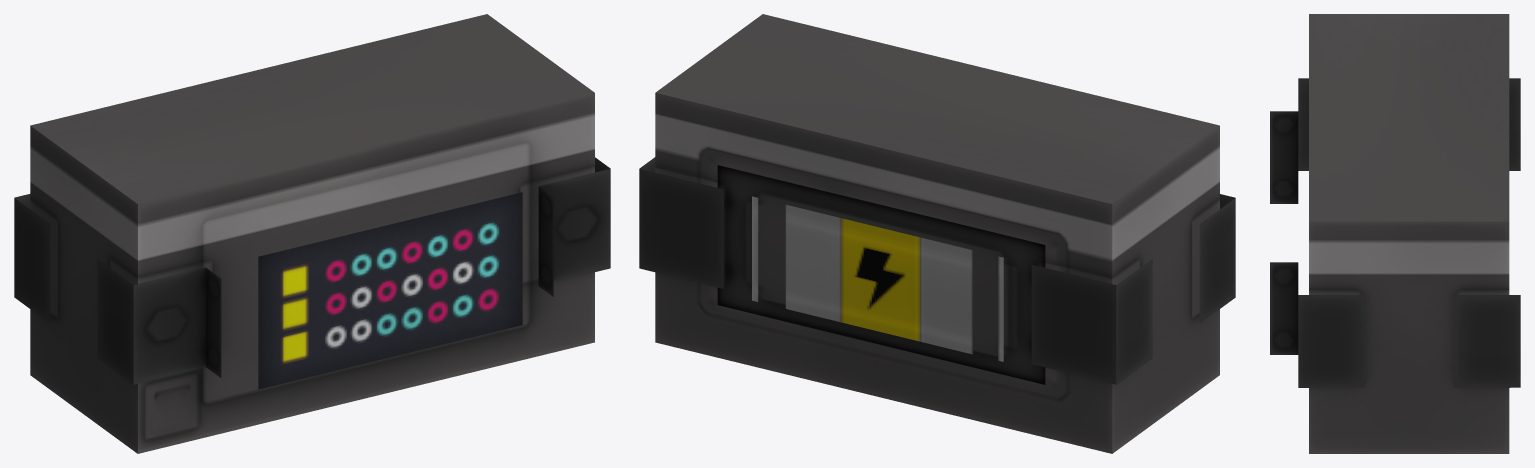
The model's file is obj_interactive_controller_01_lod1.fbx.
The picture shows the model from 3 angles, left to right: view 1: azimuth 30°, elevation 25°; view 2: azimuth 150°, elevation 25°; view 3: azimuth 270°, elevation 25°; orthographic projection. The views are drawn at different scales.
Parts seen in each view (by area): view 1: obj_interactive_controller_02; view 2: obj_interactive_controller_02; view 3: obj_interactive_controller_02.
Part boxes in pixels (x1,y1,x2,y2): obj_interactive_controller_02: (14, 14, 610, 453); obj_interactive_controller_02: (639, 14, 1235, 453); obj_interactive_controller_02: (1270, 14, 1520, 453).
Size of the model in its own units: 2 by 1 by 0.9991.
1 material, 1 textured.
